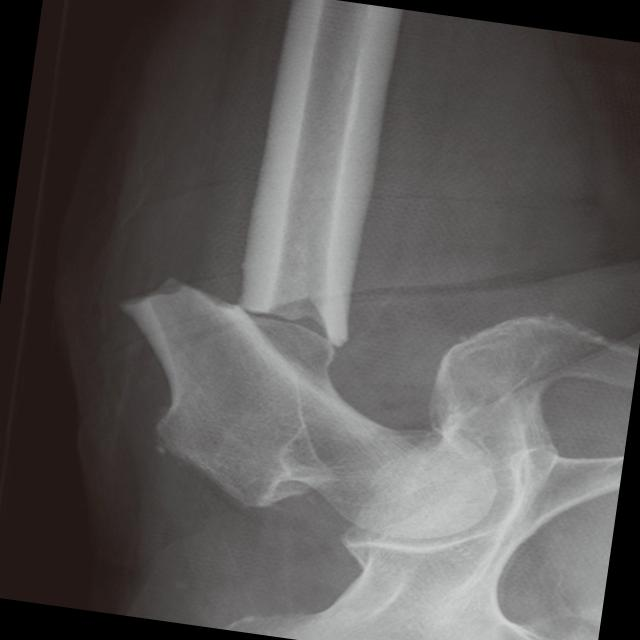left-subtrochanteric: (117, 276, 497, 539), (239, 0, 401, 345)
